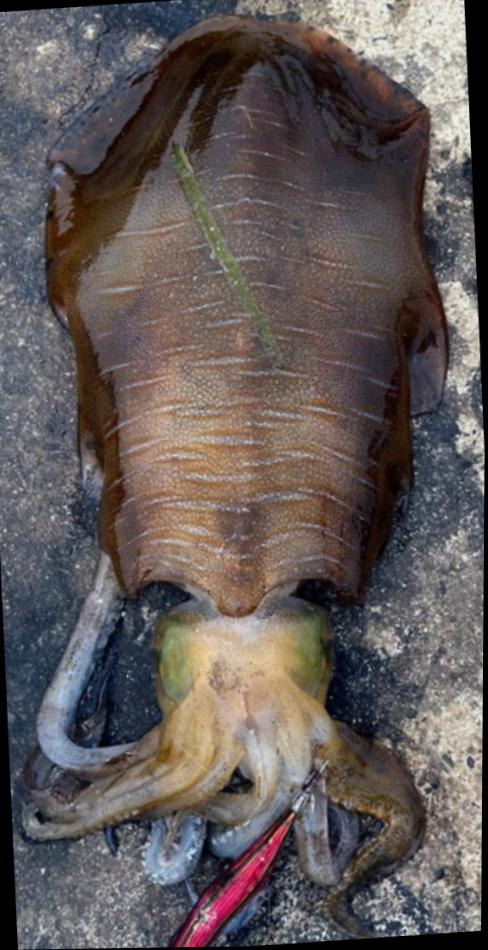Cephalopod: (24, 16, 449, 936)
